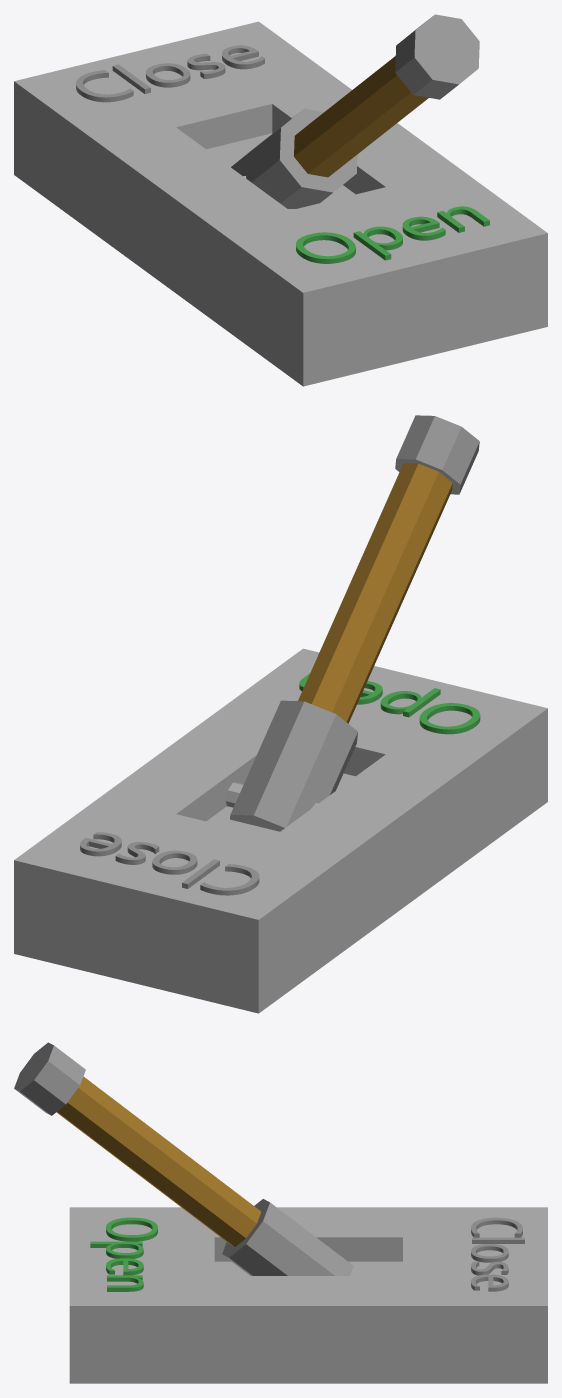
The model's file is leveropen.glb.
3 renders of one model, top to bottom at view 1: azimuth 30°, elevation 25°; view 2: azimuth 150°, elevation 25°; view 3: azimuth 270°, elevation 25°, orthographic. The views are drawn at different scales.
Visible parts, largest first — view 1: MoText, Zylinder; view 2: MoText, Zylinder; view 3: MoText, Zylinder.
Part boxes in pixels (x1,y1,x2,y2): MoText: [14, 21, 547, 386]; Zylinder: [231, 14, 479, 208]; MoText: [14, 648, 547, 1013]; Zylinder: [230, 415, 479, 831]; MoText: [69, 1207, 547, 1383]; Zylinder: [14, 1042, 353, 1275].
Size of the model in its own units: 0.9774 by 1.33 by 2.23.
